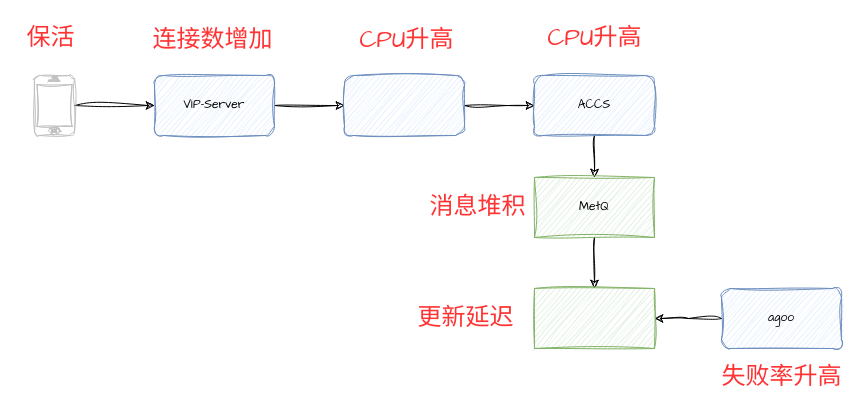
This 867x414 diagram has some shape labels left out. Each missing label, with the centre of its shape:
"AServer" goes at point 404,105.
"Redis" goes at point 594,318.
